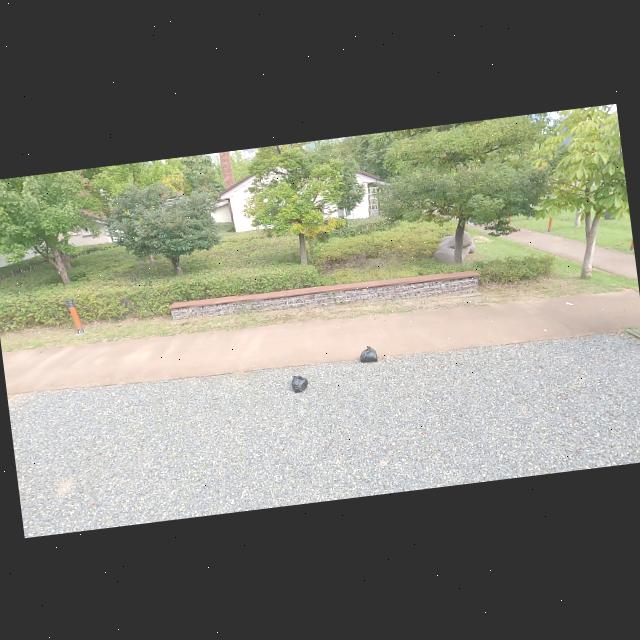trash: (356, 341, 380, 364), (288, 372, 310, 396)
